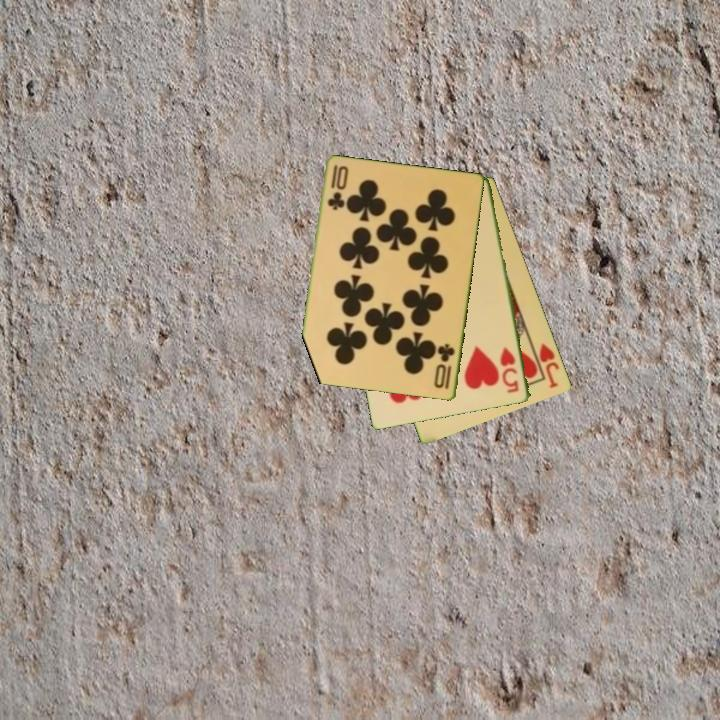10c: (431, 340, 458, 392), (324, 162, 345, 213)
5h: (497, 344, 522, 396)
Jh: (528, 338, 562, 391)
